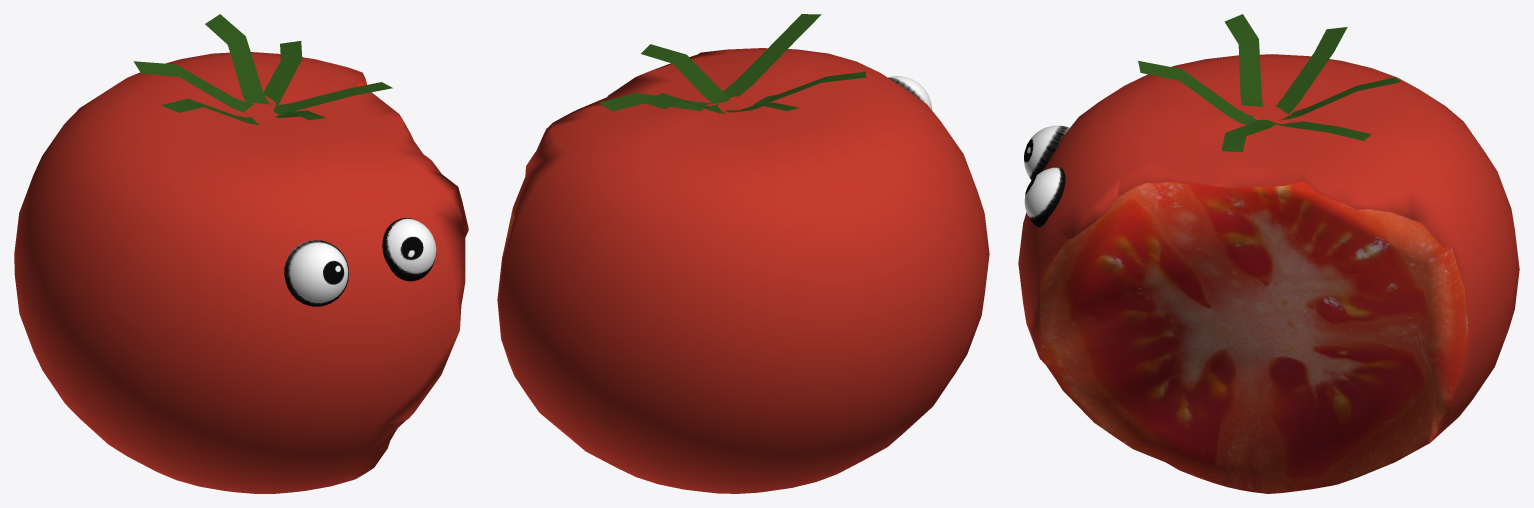
Rendered from Tomate zerstört.fbx.
The picture shows the model from 3 angles, left to right: view 1: azimuth 30°, elevation 25°; view 2: azimuth 150°, elevation 25°; view 3: azimuth 270°, elevation 25°; orthographic projection. The views are drawn at different scales.
Parts seen in each view (by area): view 1: Sphere.021, Sphere.014, Sphere.013; view 2: Sphere.021; view 3: Sphere.021, Sphere.013, Sphere.014.
Boxes of the visible parts, x1=… form: Sphere.021: x1=14, y1=14, x2=468, y2=493; Sphere.014: x1=284, y1=240, x2=348, y2=306; Sphere.013: x1=382, y1=217, x2=436, y2=281; Sphere.021: x1=497, y1=14, x2=989, y2=493; Sphere.021: x1=1018, y1=14, x2=1519, y2=493; Sphere.013: x1=1024, y1=167, x2=1065, y2=227; Sphere.014: x1=1024, y1=125, x2=1069, y2=179.
Size of the model in its own units: 164 by 176 by 200.
